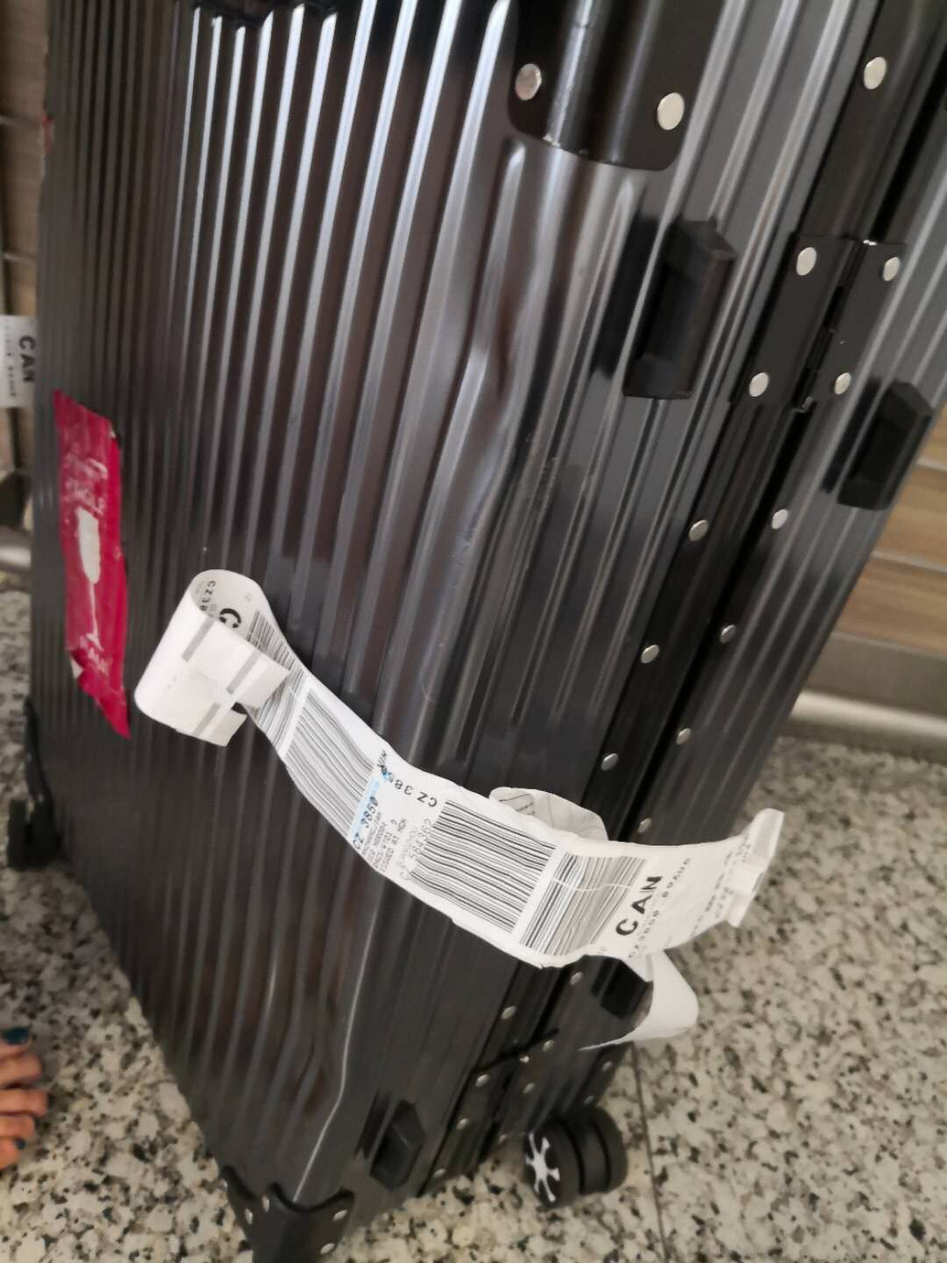rupture: (432, 273, 534, 538), (260, 983, 351, 1129)
